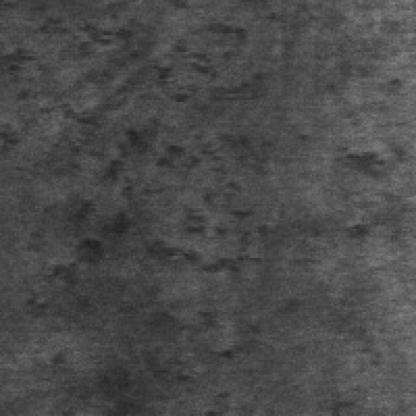rolled-in_scale: (0, 10, 252, 258)
